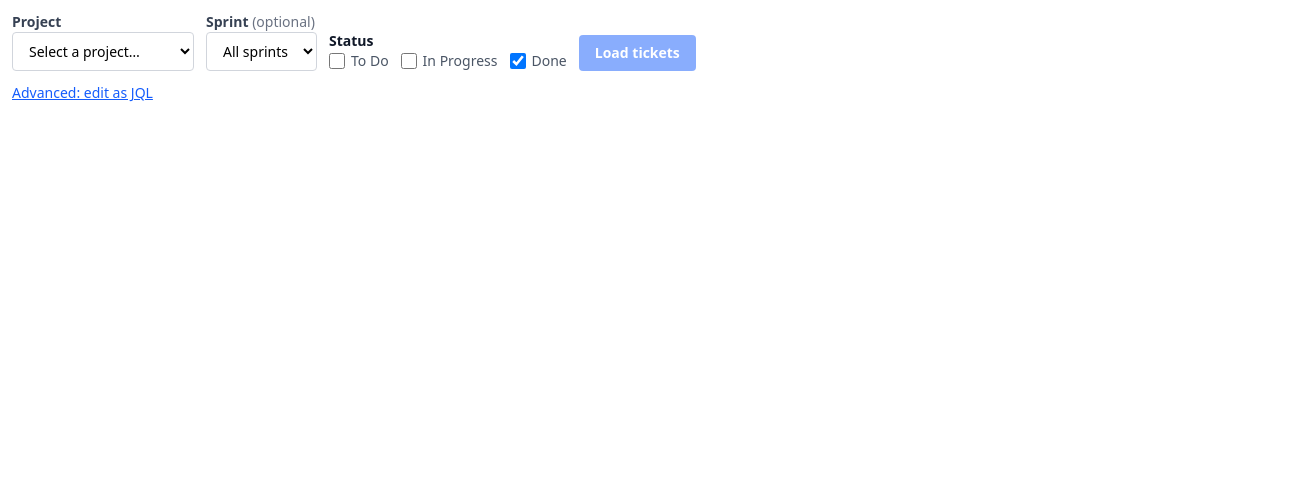
Scenario: TicketBrowser linked commits › offersTheButtonOnAnExpandedRowAndFetchesNothingUntilClicked
Select "CNV — Convergence" in the dropdown labelled "Project": (103, 52) top-left (12, 32), bottom-right (194, 71)
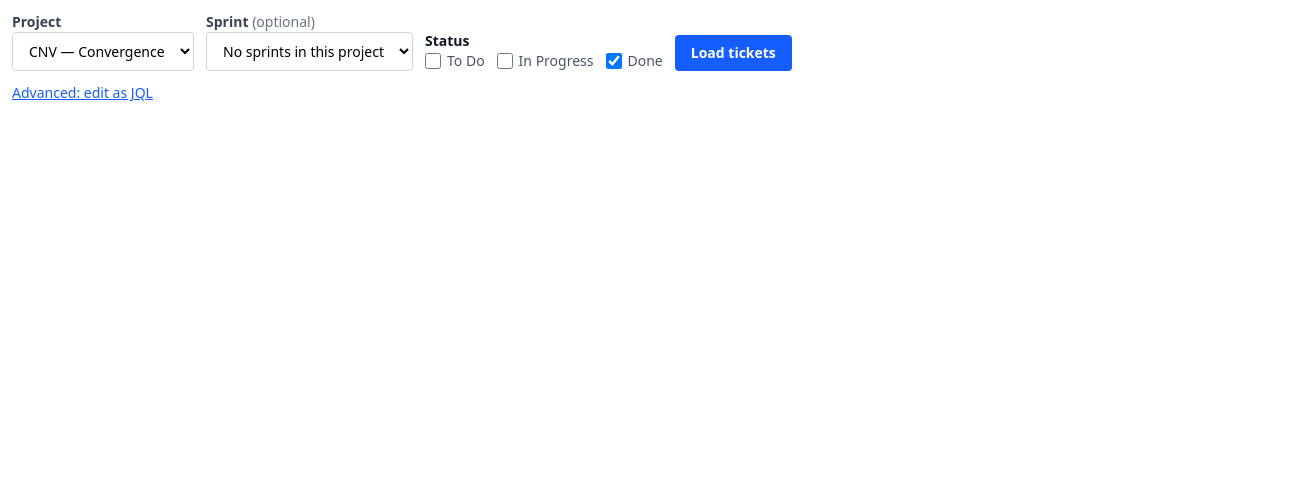
Click the button "Load tickets": (733, 53) top-left (675, 35), bottom-right (792, 71)
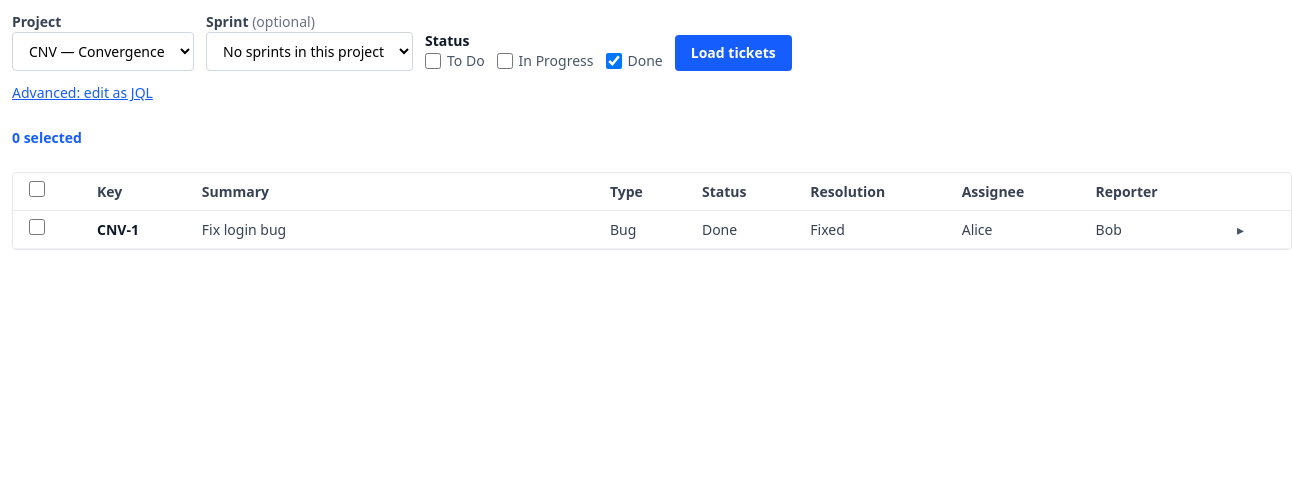
Click the button "▸": (1240, 230) top-left (1229, 220), bottom-right (1252, 240)
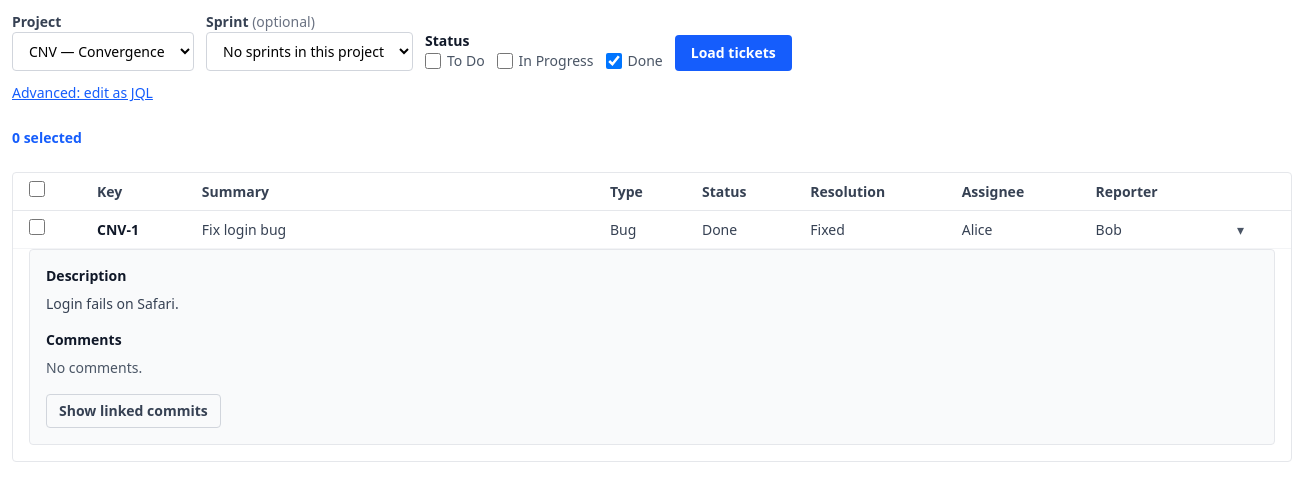
Check: the button "Show linked commits" is shown, box top-left (46, 394), bottom-right (221, 428)
